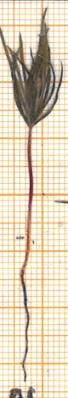flower: (0, 0, 68, 128)
root: (17, 240, 44, 382)
stem: (22, 126, 42, 241)
